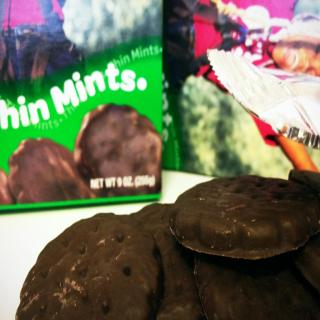Cookie: (14, 168, 320, 320), (72, 101, 162, 197), (7, 136, 99, 203), (0, 166, 17, 206)
